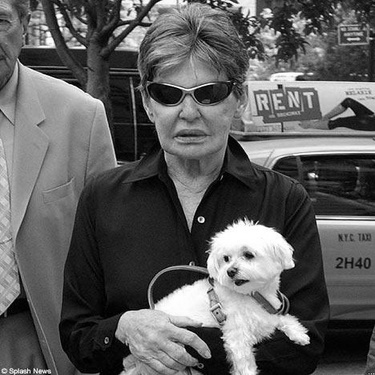dog: (112, 212, 314, 373)
